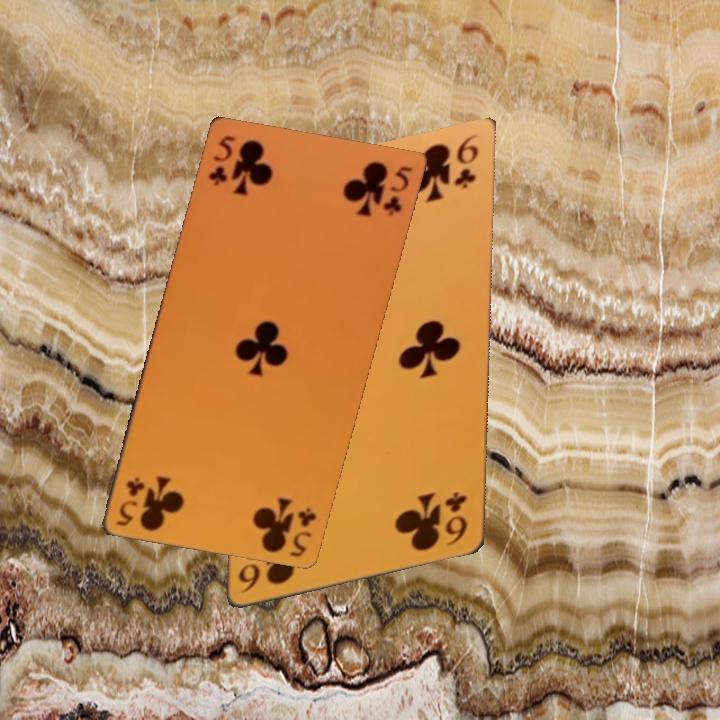5c: (110, 464, 148, 527), (377, 157, 415, 220), (284, 495, 322, 557), (204, 127, 242, 189)
6c: (446, 481, 474, 549), (456, 128, 483, 196)
